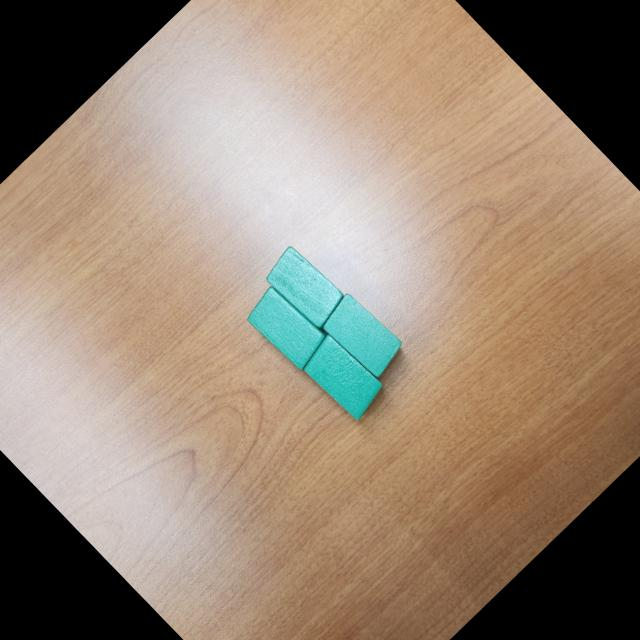green: (294, 329, 390, 426), (315, 288, 410, 384), (240, 280, 334, 374), (259, 240, 351, 334)
